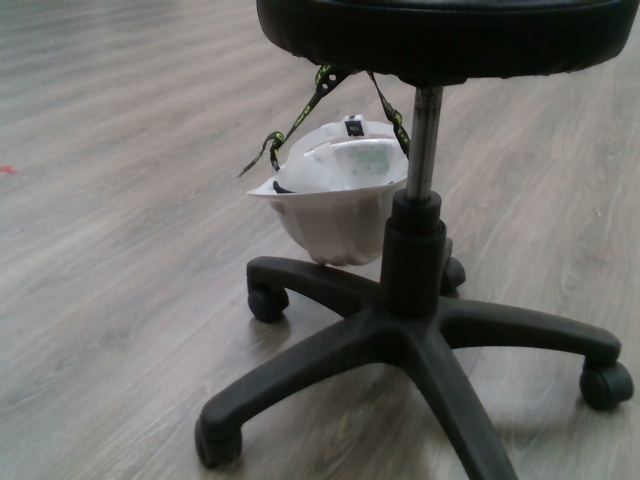helmet: (241, 111, 418, 268)
